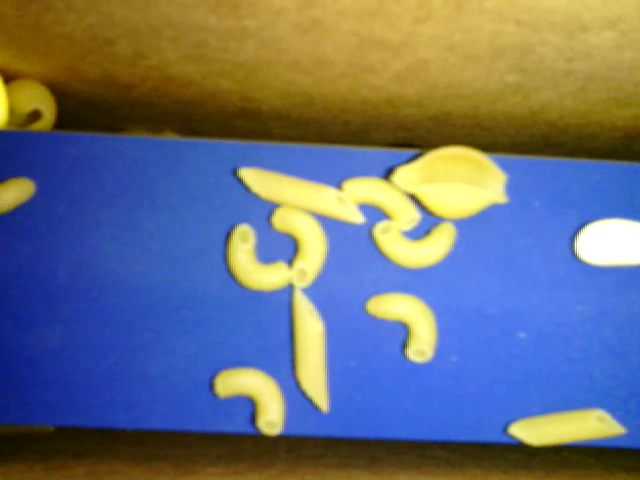elbow: (264, 204, 329, 287), (365, 293, 438, 364), (213, 368, 287, 436), (225, 223, 296, 291), (341, 176, 424, 231), (369, 219, 456, 270)
penne: (239, 169, 366, 226), (291, 286, 330, 415), (503, 410, 626, 449)
shell: (384, 141, 510, 224), (2, 76, 58, 134)
